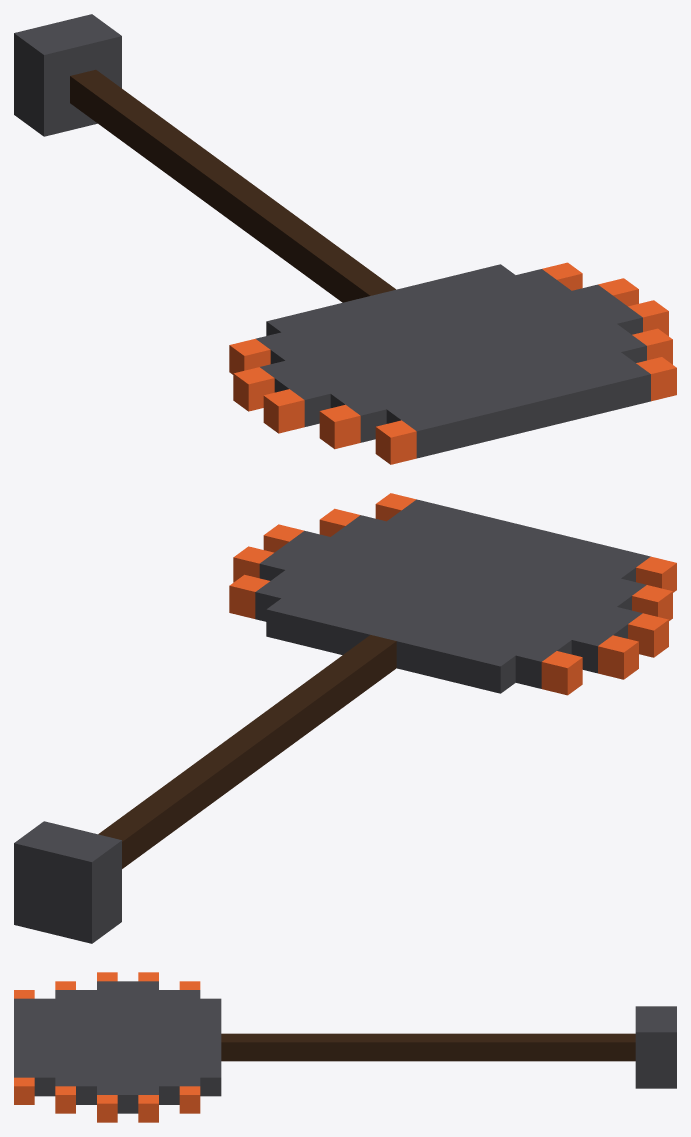
Rendered from vox_axe_saw.glb.
3 renders of one model, top to bottom at view 1: azimuth 30°, elevation 25°; view 2: azimuth 150°, elevation 25°; view 3: azimuth 270°, elevation 25°, orthographic. The views are drawn at different scales.
Parts seen in each view (by area): view 1: vox_axe_saw; view 2: vox_axe_saw; view 3: vox_axe_saw.
Boxes of the visible parts, box(x1,y1,x2,y2) form: vox_axe_saw: box(14, 14, 676, 464); vox_axe_saw: box(14, 493, 676, 943); vox_axe_saw: box(14, 972, 676, 1122).
Bounding box in the file's own units: 0.3 × 0.06 × 0.64.
